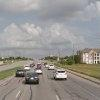Car: (22, 69, 43, 87)
